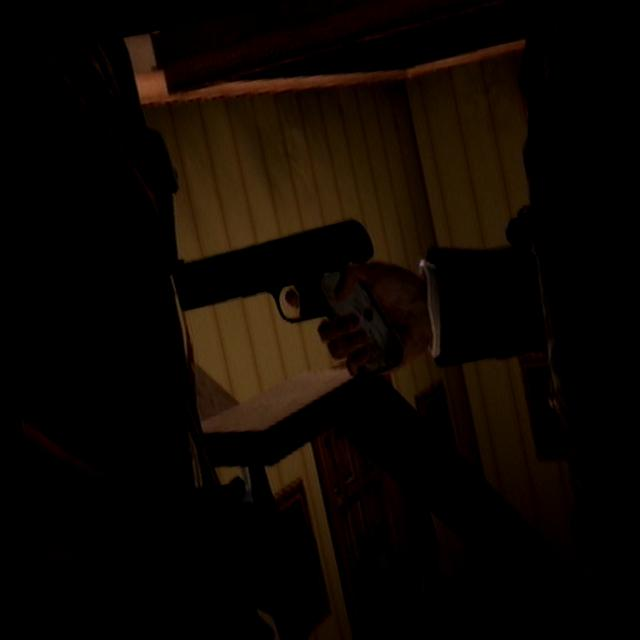handgun: (166, 206, 414, 410)
